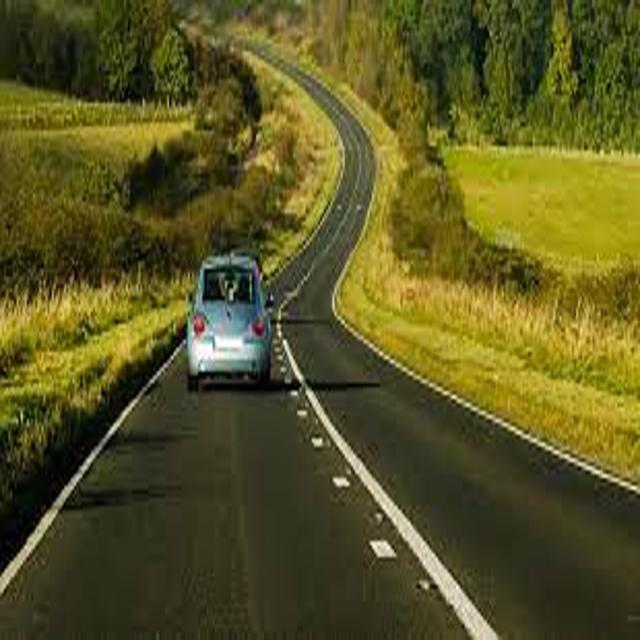car: (187, 256, 273, 391)
